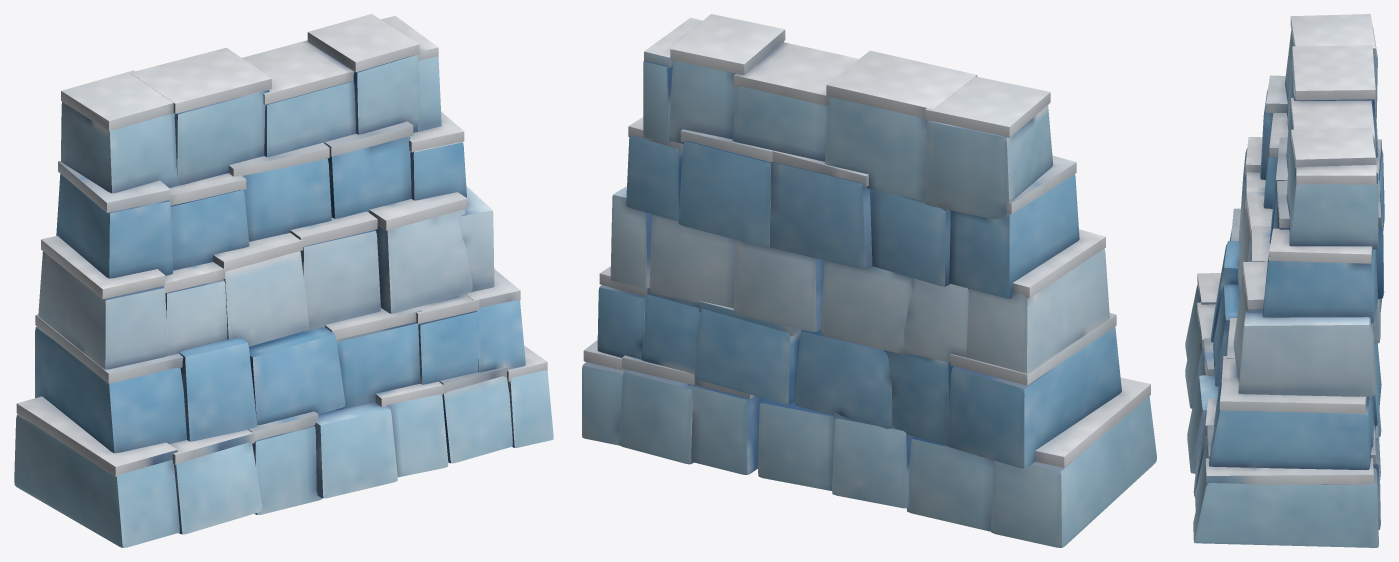
Rendered from Glace_Glacier.fbx.
The picture shows the model from 3 angles, left to right: view 1: azimuth 30°, elevation 25°; view 2: azimuth 150°, elevation 25°; view 3: azimuth 270°, elevation 25°; orthographic projection. The views are drawn at different scales.
Visible parts, largest first — view 1: Glace_Glacier; view 2: Glace_Glacier; view 3: Glace_Glacier.
Part boxes in pixels (x1,y1,x2,y2): Glace_Glacier: (14,14,553,547); Glace_Glacier: (582,14,1156,547); Glace_Glacier: (1185,14,1384,547).
Bounding box in the file's own units: 3608 × 2962 × 1503.
1 material, 1 textured.
